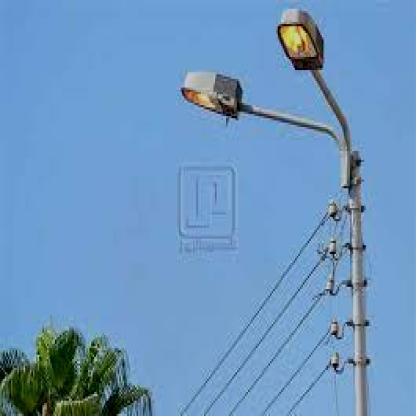light_pole: (179, 9, 372, 414)
